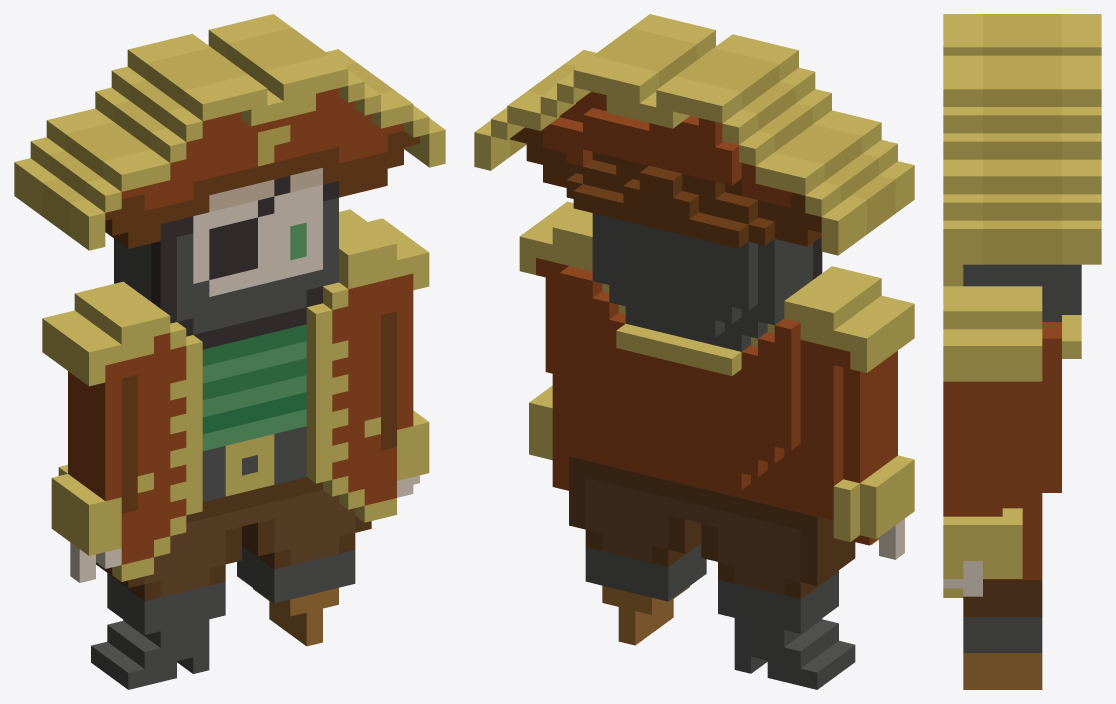
3 views of the same model, side by side, from view 1: azimuth 30°, elevation 25°; view 2: azimuth 150°, elevation 25°; view 3: azimuth 270°, elevation 25° (orthographic). The views are drawn at different scales.
Visible parts, largest first — view 1: VoxTransform; view 2: VoxTransform; view 3: VoxTransform.
Boxes of the visible parts, bbox=[...] form: VoxTransform: bbox=[14, 14, 445, 689]; VoxTransform: bbox=[474, 14, 914, 689]; VoxTransform: bbox=[943, 14, 1101, 689].
Bounding box in the file's own units: 22 × 34 × 8.
